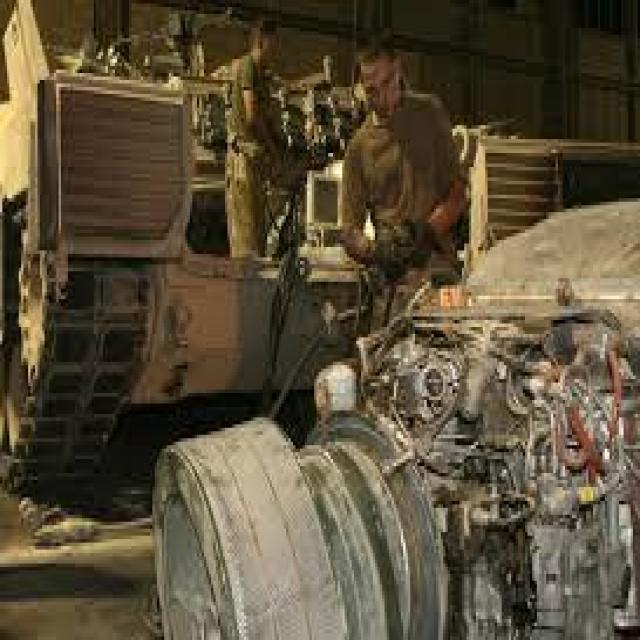Tanks: (7, 16, 413, 541)
